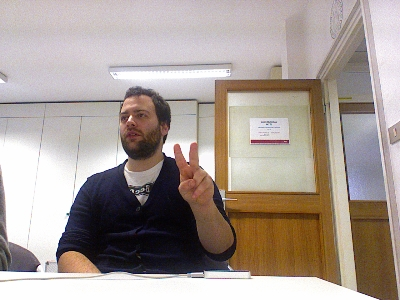剪刀: (171, 142, 215, 207)
